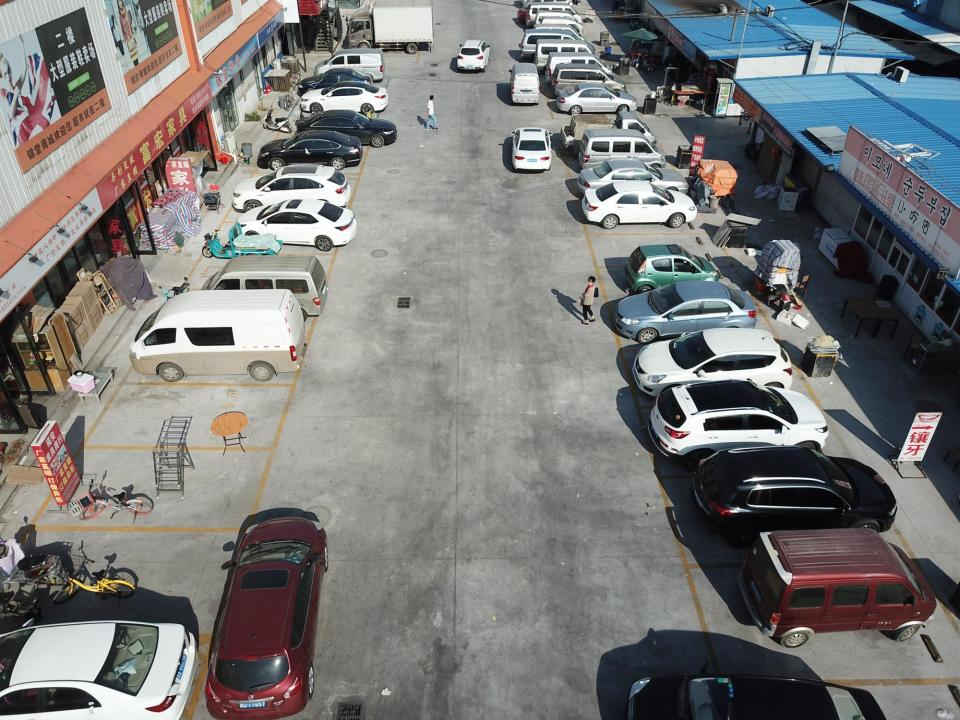car: (203, 516, 330, 720), (691, 444, 898, 548), (0, 615, 199, 720), (647, 376, 829, 472), (623, 659, 891, 720), (630, 325, 794, 404), (612, 279, 757, 345), (235, 198, 358, 252), (232, 163, 352, 215), (580, 179, 697, 228), (624, 243, 720, 301), (576, 157, 690, 204), (257, 130, 363, 170), (293, 109, 398, 148), (300, 80, 390, 115), (556, 81, 638, 116), (298, 67, 374, 97), (510, 126, 553, 172), (456, 39, 491, 73)
truck: (343, 0, 435, 55), (560, 110, 657, 157)
van: (736, 526, 938, 649), (128, 287, 308, 382), (193, 253, 328, 323), (577, 128, 666, 175), (520, 28, 597, 68), (550, 62, 626, 102), (313, 47, 386, 84), (545, 51, 612, 87), (533, 38, 602, 72), (525, 2, 583, 32), (532, 22, 587, 52), (507, 62, 541, 106), (534, 9, 584, 36), (538, 16, 584, 45)
